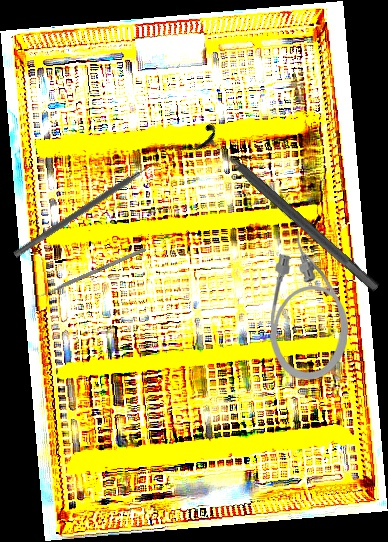Cannula: (269, 230, 350, 381)
Fixation Ring: (187, 121, 388, 303)
Pusher: (32, 247, 147, 301)
Spatula Surgical: (12, 156, 164, 264)
